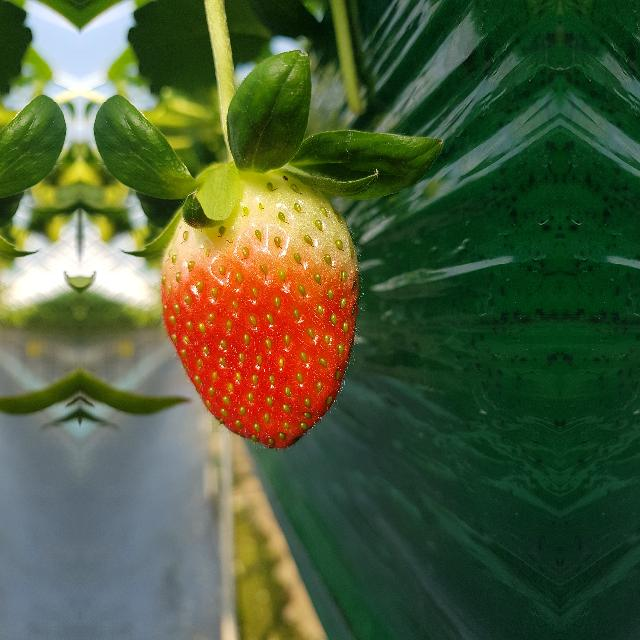Health_75: (160, 168, 362, 452)
